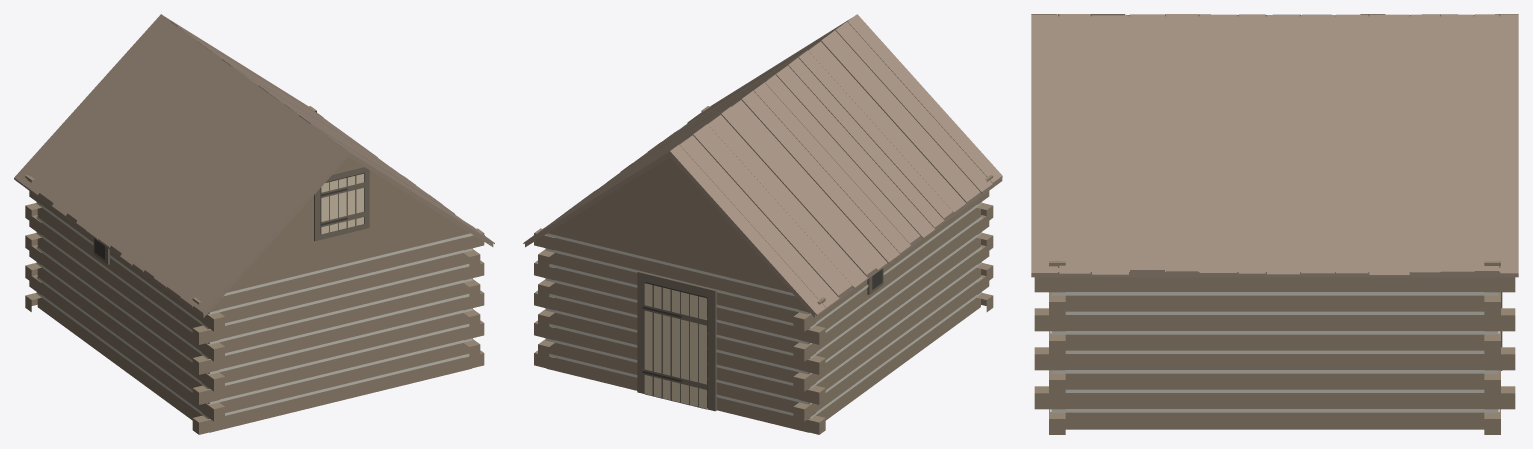
File: recon_1835_blk_randolph_dearborn_a1_07__inferred_1835.glb
3 renders of one model, left to right at view 1: azimuth 30°, elevation 25°; view 2: azimuth 150°, elevation 25°; view 3: azimuth 270°, elevation 25°, orthographic. The views are drawn at different scales.
Parts seen in each view (by area): view 1: recon_1835_blk_randolph_dearborn_a1_07__inferred_1835; view 2: recon_1835_blk_randolph_dearborn_a1_07__inferred_1835; view 3: recon_1835_blk_randolph_dearborn_a1_07__inferred_1835.
Part boxes in pixels (left/top/right/bottom): recon_1835_blk_randolph_dearborn_a1_07__inferred_1835: left=14, top=14, right=494, bottom=434; recon_1835_blk_randolph_dearborn_a1_07__inferred_1835: left=523, top=14, right=1002, bottom=434; recon_1835_blk_randolph_dearborn_a1_07__inferred_1835: left=1031, top=14, right=1518, bottom=434.
Bounding box in the file's own units: 6.3 × 5.22 × 6.94.
